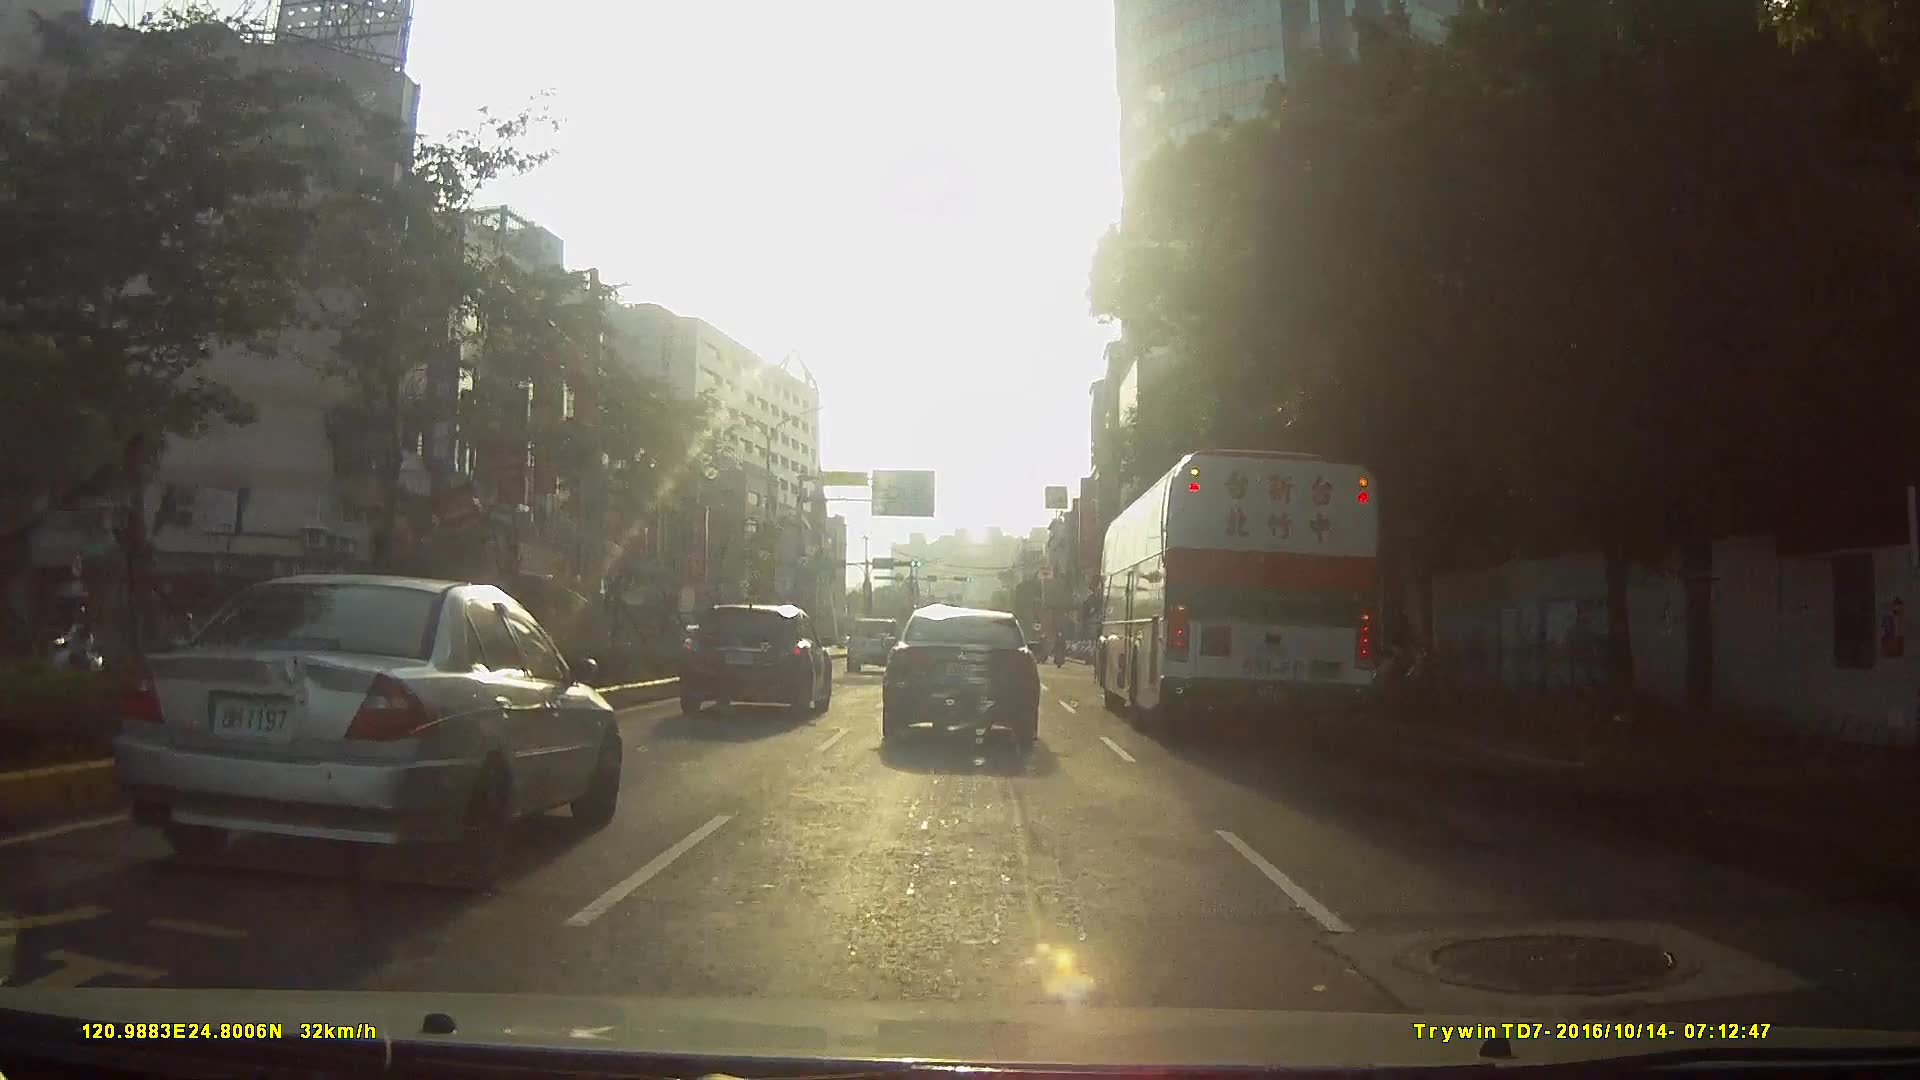rider: (50, 606, 110, 695)
vehicle: (105, 574, 622, 899), (1103, 440, 1396, 733), (879, 608, 1042, 752), (677, 603, 833, 721), (847, 619, 903, 677)
